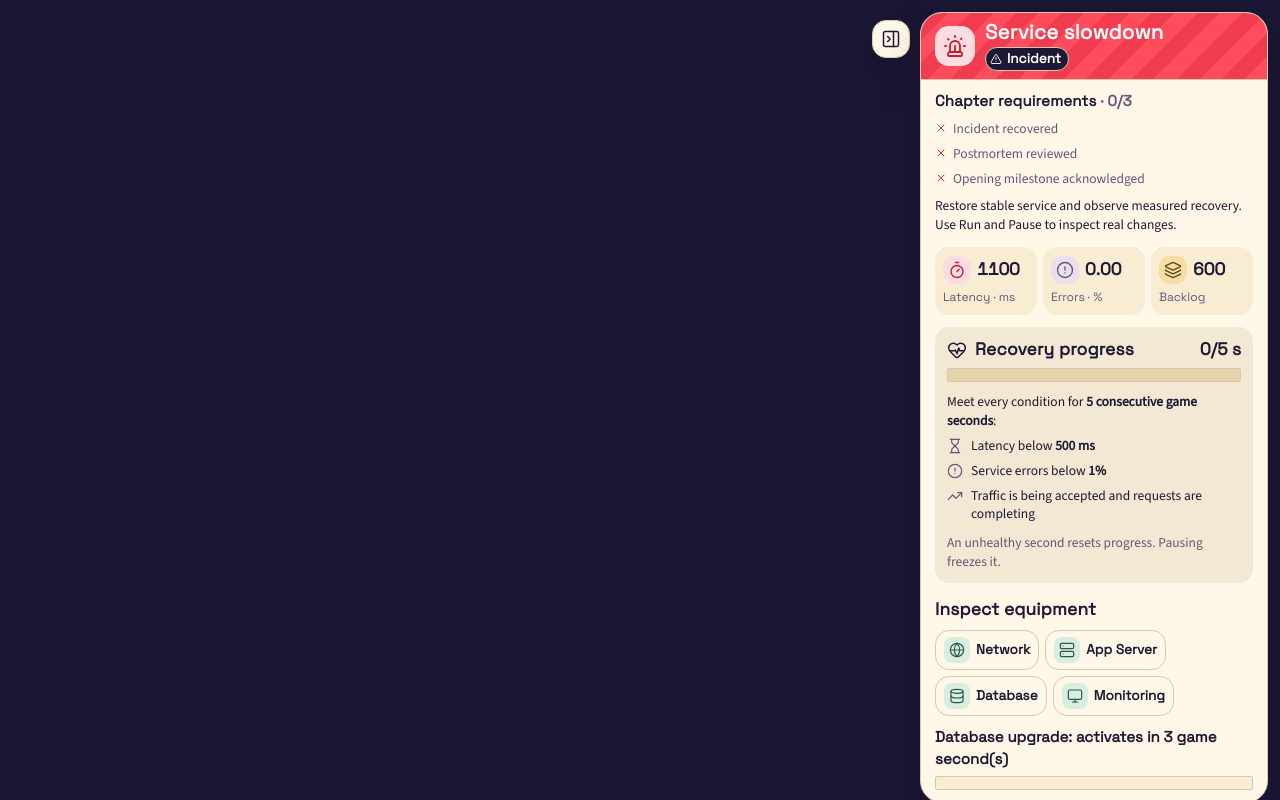
Scenario: shows an engine reason outside disabled controls and keeps it keyboard reachable
The width and height of the screenshot is (1280, 800).
Click the button "App Server" at (1106, 650), box [1045,630,1166,670]
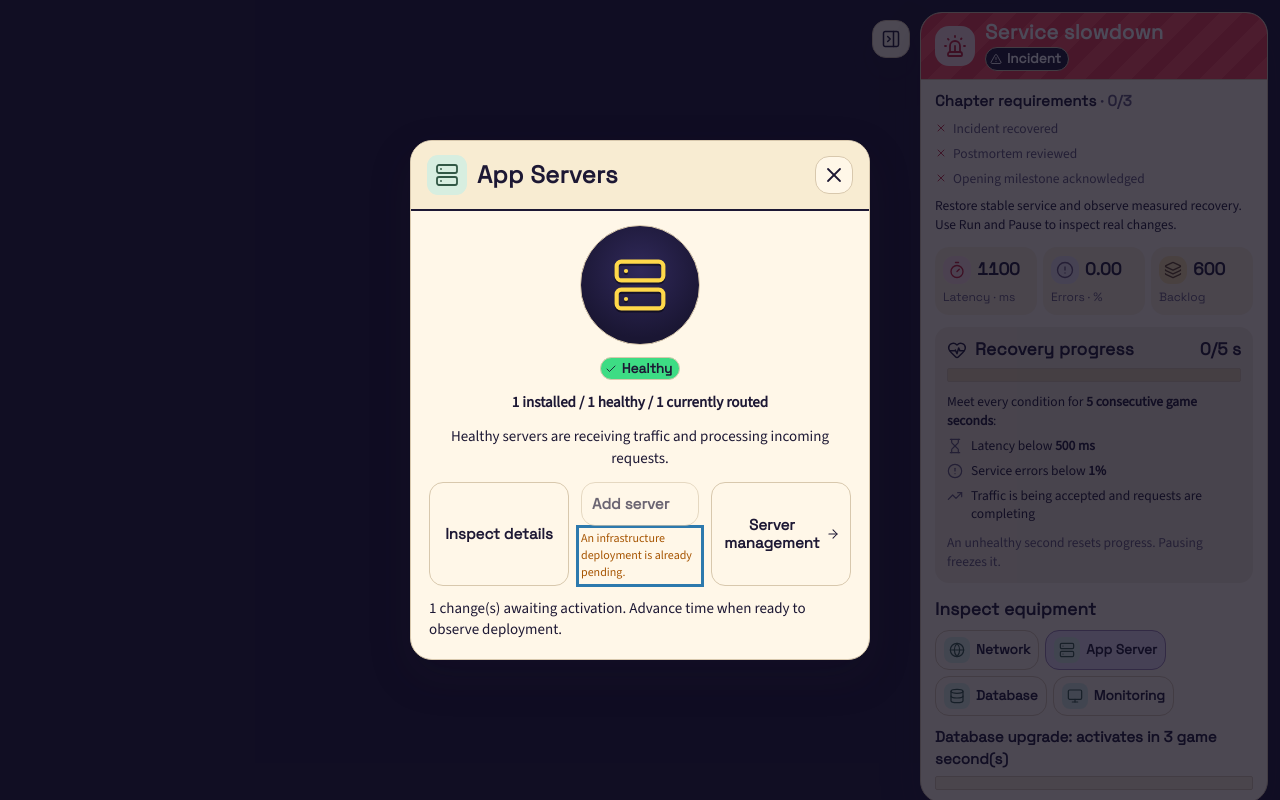
Expected: the text with class "campaign-action-reason" reads "An infrastructure deployment is already pending.", [581,530,692,580]
